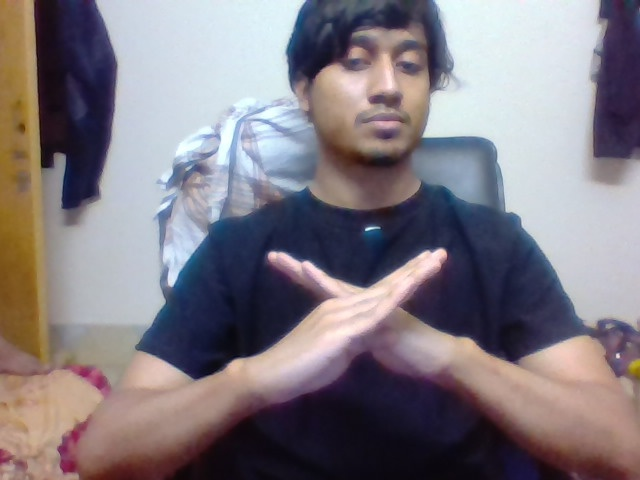X: (249, 244, 494, 388)
